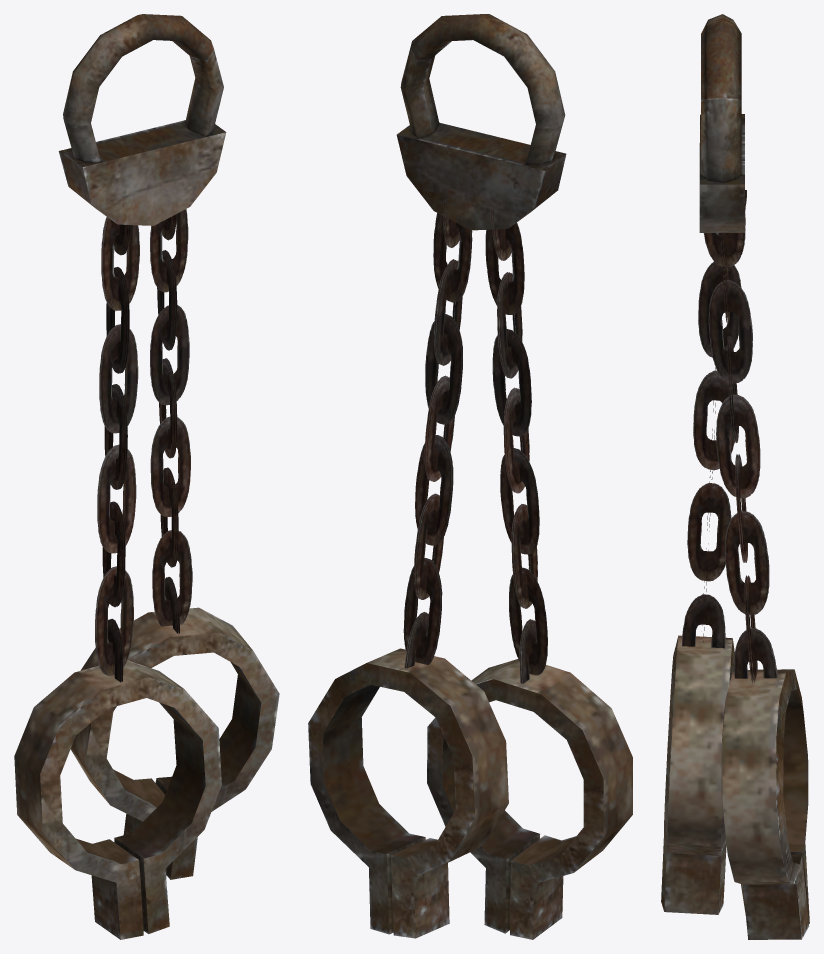
File: strappado_shackles.dae
3 views of the same model, side by side, from view 1: azimuth 30°, elevation 25°; view 2: azimuth 150°, elevation 25°; view 3: azimuth 270°, elevation 25° (orthographic). The views are drawn at different scales.
Visible parts, largest first — view 1: polySurface6; view 2: polySurface6; view 3: polySurface6.
Part boxes in pixels (x1=…): polySurface6: x1=14, y1=14, x2=279, y2=939; polySurface6: x1=308, y1=14, x2=632, y2=939; polySurface6: x1=661, y1=14, x2=809, y2=939.
Bounding box in the file's own units: 0.2147 × 0.6837 × 0.103.
